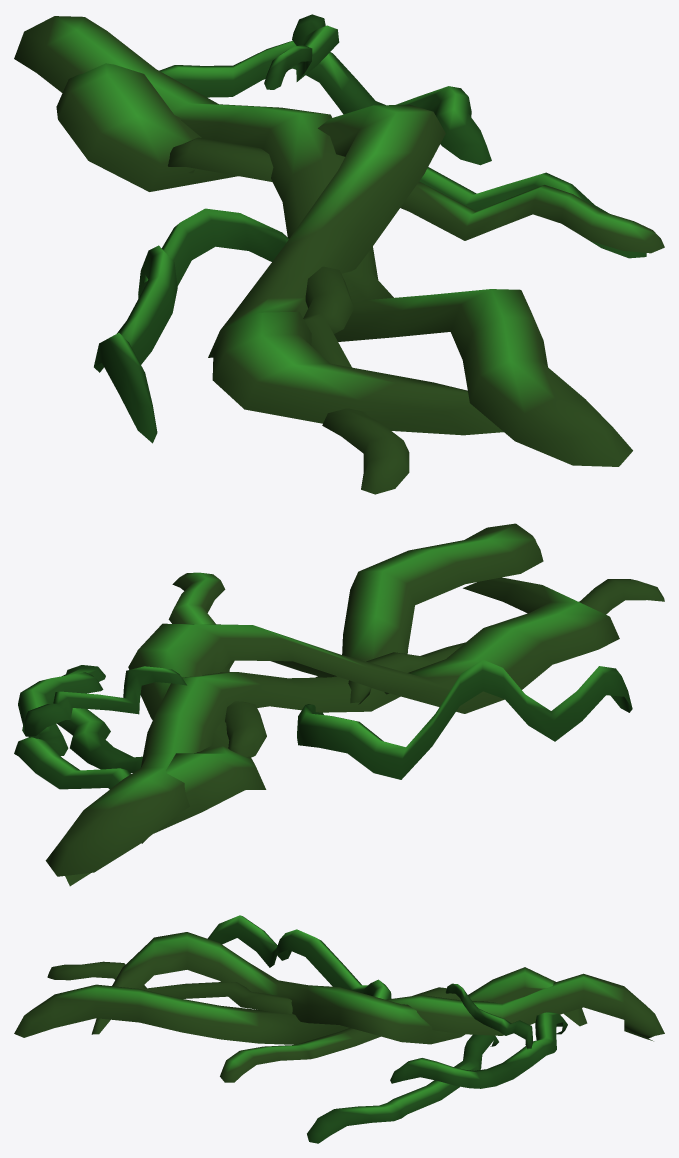
The model's file is Vine44.fbx.
3 views of the same model, one above another, from view 1: azimuth 30°, elevation 25°; view 2: azimuth 150°, elevation 25°; view 3: azimuth 270°, elevation 25° (orthographic). The views are drawn at different scales.
Parts seen in each view (by area): view 1: pCube160; view 2: pCube160; view 3: pCube160.
Boxes of the visible parts, x1,y1,x2,y2 form: pCube160: (14, 14, 664, 494); pCube160: (14, 523, 664, 886); pCube160: (14, 915, 664, 1143).
Size of the model in its own units: 87.37 by 22.46 by 142.
